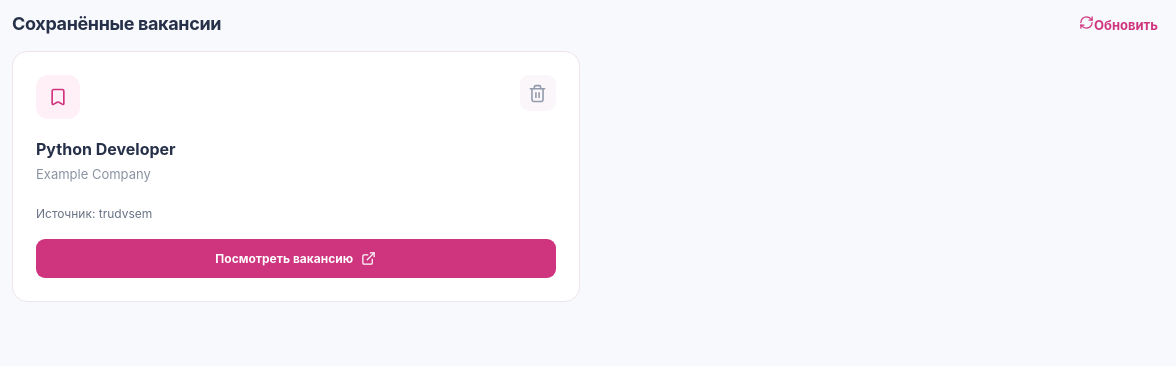
Test: Saved vacancies page › сохраняет вакансию в списке при ошибке удаления
Expected: the heading "Python Developer" is shown, [36,139,176,159]
Click the button named "Удалить сохранённую вакансию" at (538, 93), box [520,75,556,111]
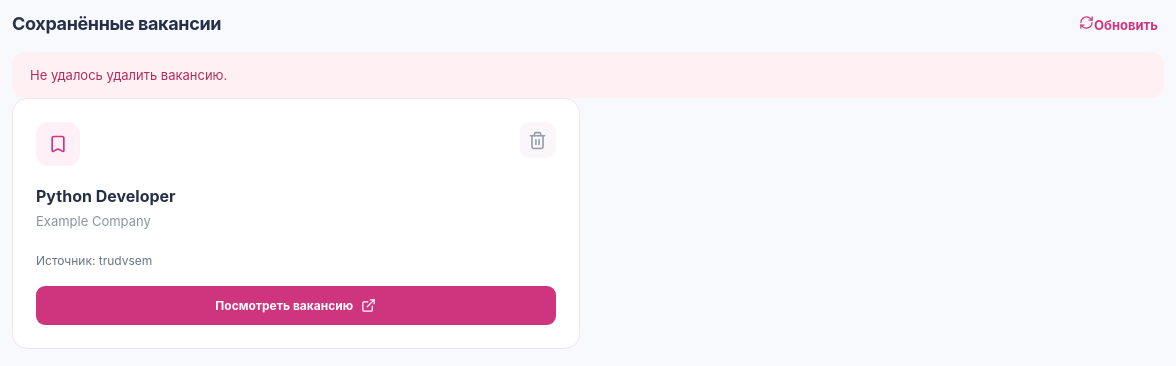
Expected: the heading "Python Developer" is shown, [36,186,176,206]
Now the message reads "Не удалось удалить вакансию.", box [30,67,227,83]
